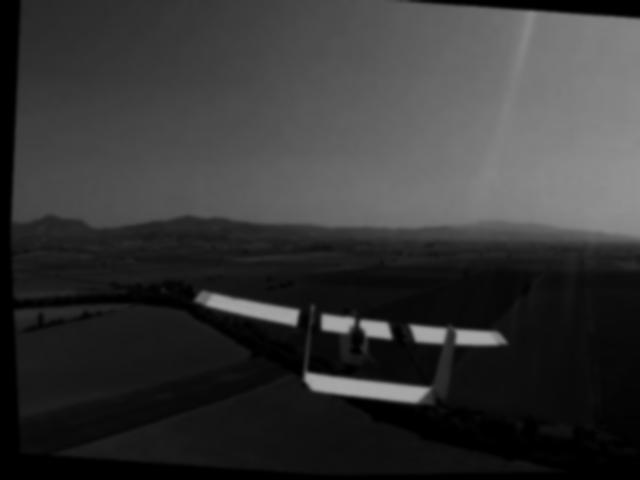hedef: (148, 246, 548, 431)
